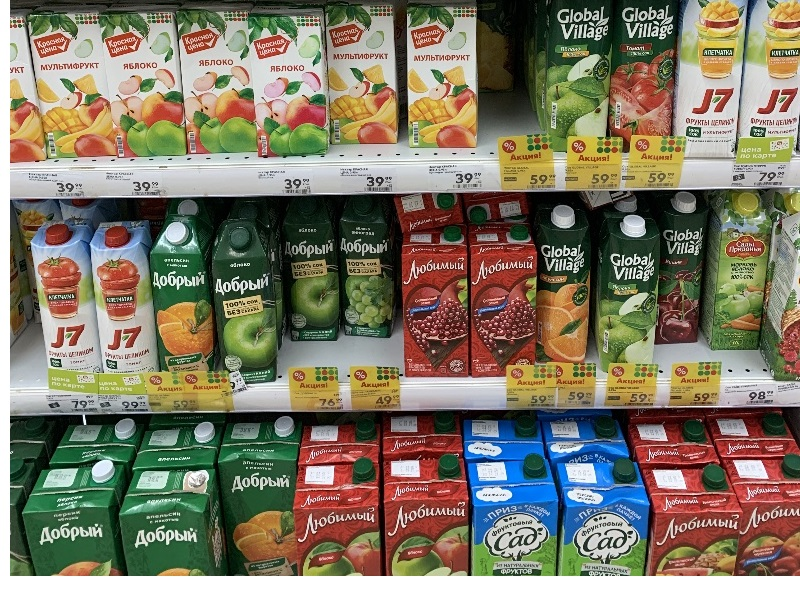juice: (26, 1, 128, 171), (174, 3, 269, 161), (28, 221, 111, 398), (245, 2, 336, 163), (396, 1, 490, 156), (102, 3, 193, 162), (147, 213, 224, 392), (87, 219, 165, 395), (397, 220, 480, 385), (320, 1, 404, 157), (211, 221, 285, 397), (463, 219, 540, 387), (586, 216, 663, 382), (698, 190, 775, 355), (534, 205, 594, 373), (279, 197, 343, 347), (653, 192, 707, 351)
